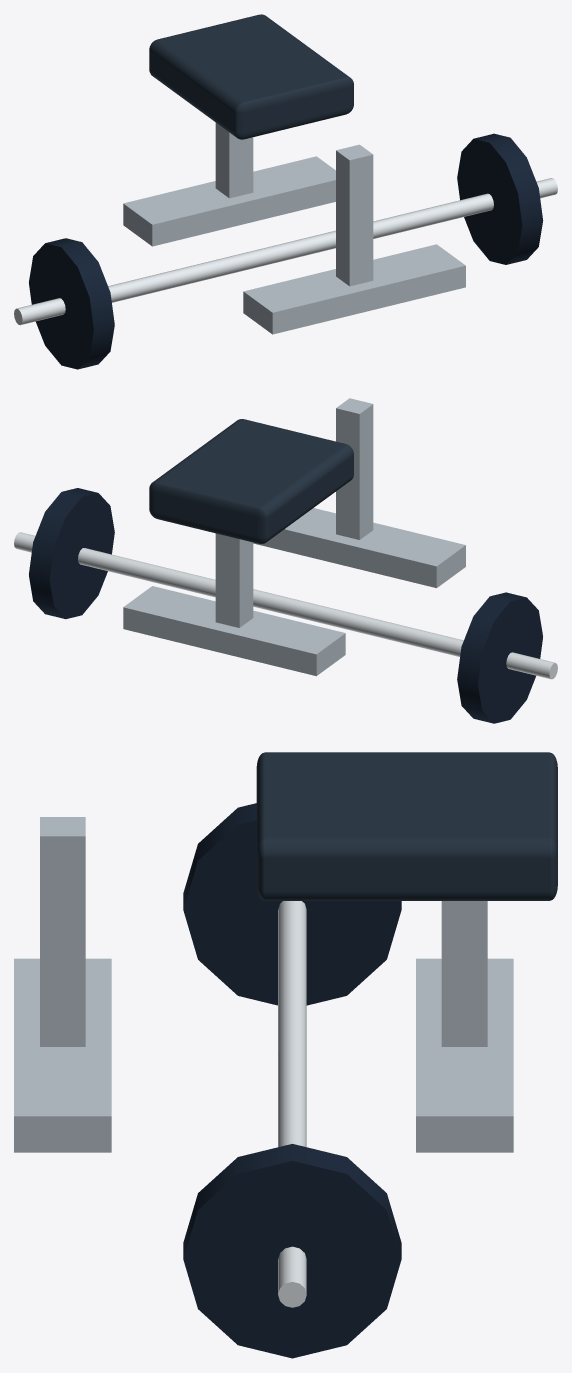
Rendered from barbell_hip_bench.glb.
The picture shows the model from 3 angles, top to bottom: view 1: azimuth 30°, elevation 25°; view 2: azimuth 150°, elevation 25°; view 3: azimuth 270°, elevation 25°; orthographic projection. The views are drawn at different scales.
Visible parts, largest first — view 1: benchFoot (×2), seat, barbell_plate (×2), barbell, benchLeg (×2); view 2: benchFoot (×2), seat, barbell_plate (×2), benchLeg (×2), barbell; view 3: barbell_plate (×2), seat, benchFoot (×2), benchLeg (×2), barbell.
Boxes of the visible parts, bbox=[...] form: benchFoot (×2): bbox=[123, 156, 465, 334]; seat: bbox=[149, 14, 353, 139]; barbell_plate (×2): bbox=[29, 133, 543, 369]; barbell: bbox=[14, 178, 557, 325]; benchLeg (×2): bbox=[215, 122, 373, 286]; benchFoot (×2): bbox=[123, 508, 465, 676]; seat: bbox=[149, 419, 353, 543]; barbell_plate (×2): bbox=[29, 488, 542, 723]; benchLeg (×2): bbox=[215, 398, 373, 627]; barbell: bbox=[14, 532, 557, 679]; barbell_plate (×2): bbox=[183, 803, 401, 1358]; seat: bbox=[256, 752, 557, 900]; benchFoot (×2): bbox=[14, 958, 513, 1152]; benchLeg (×2): bbox=[40, 817, 487, 1046]; barbell: bbox=[278, 901, 306, 1307].
Size of the model in its own units: 1.8 by 0.73 by 0.9475.
